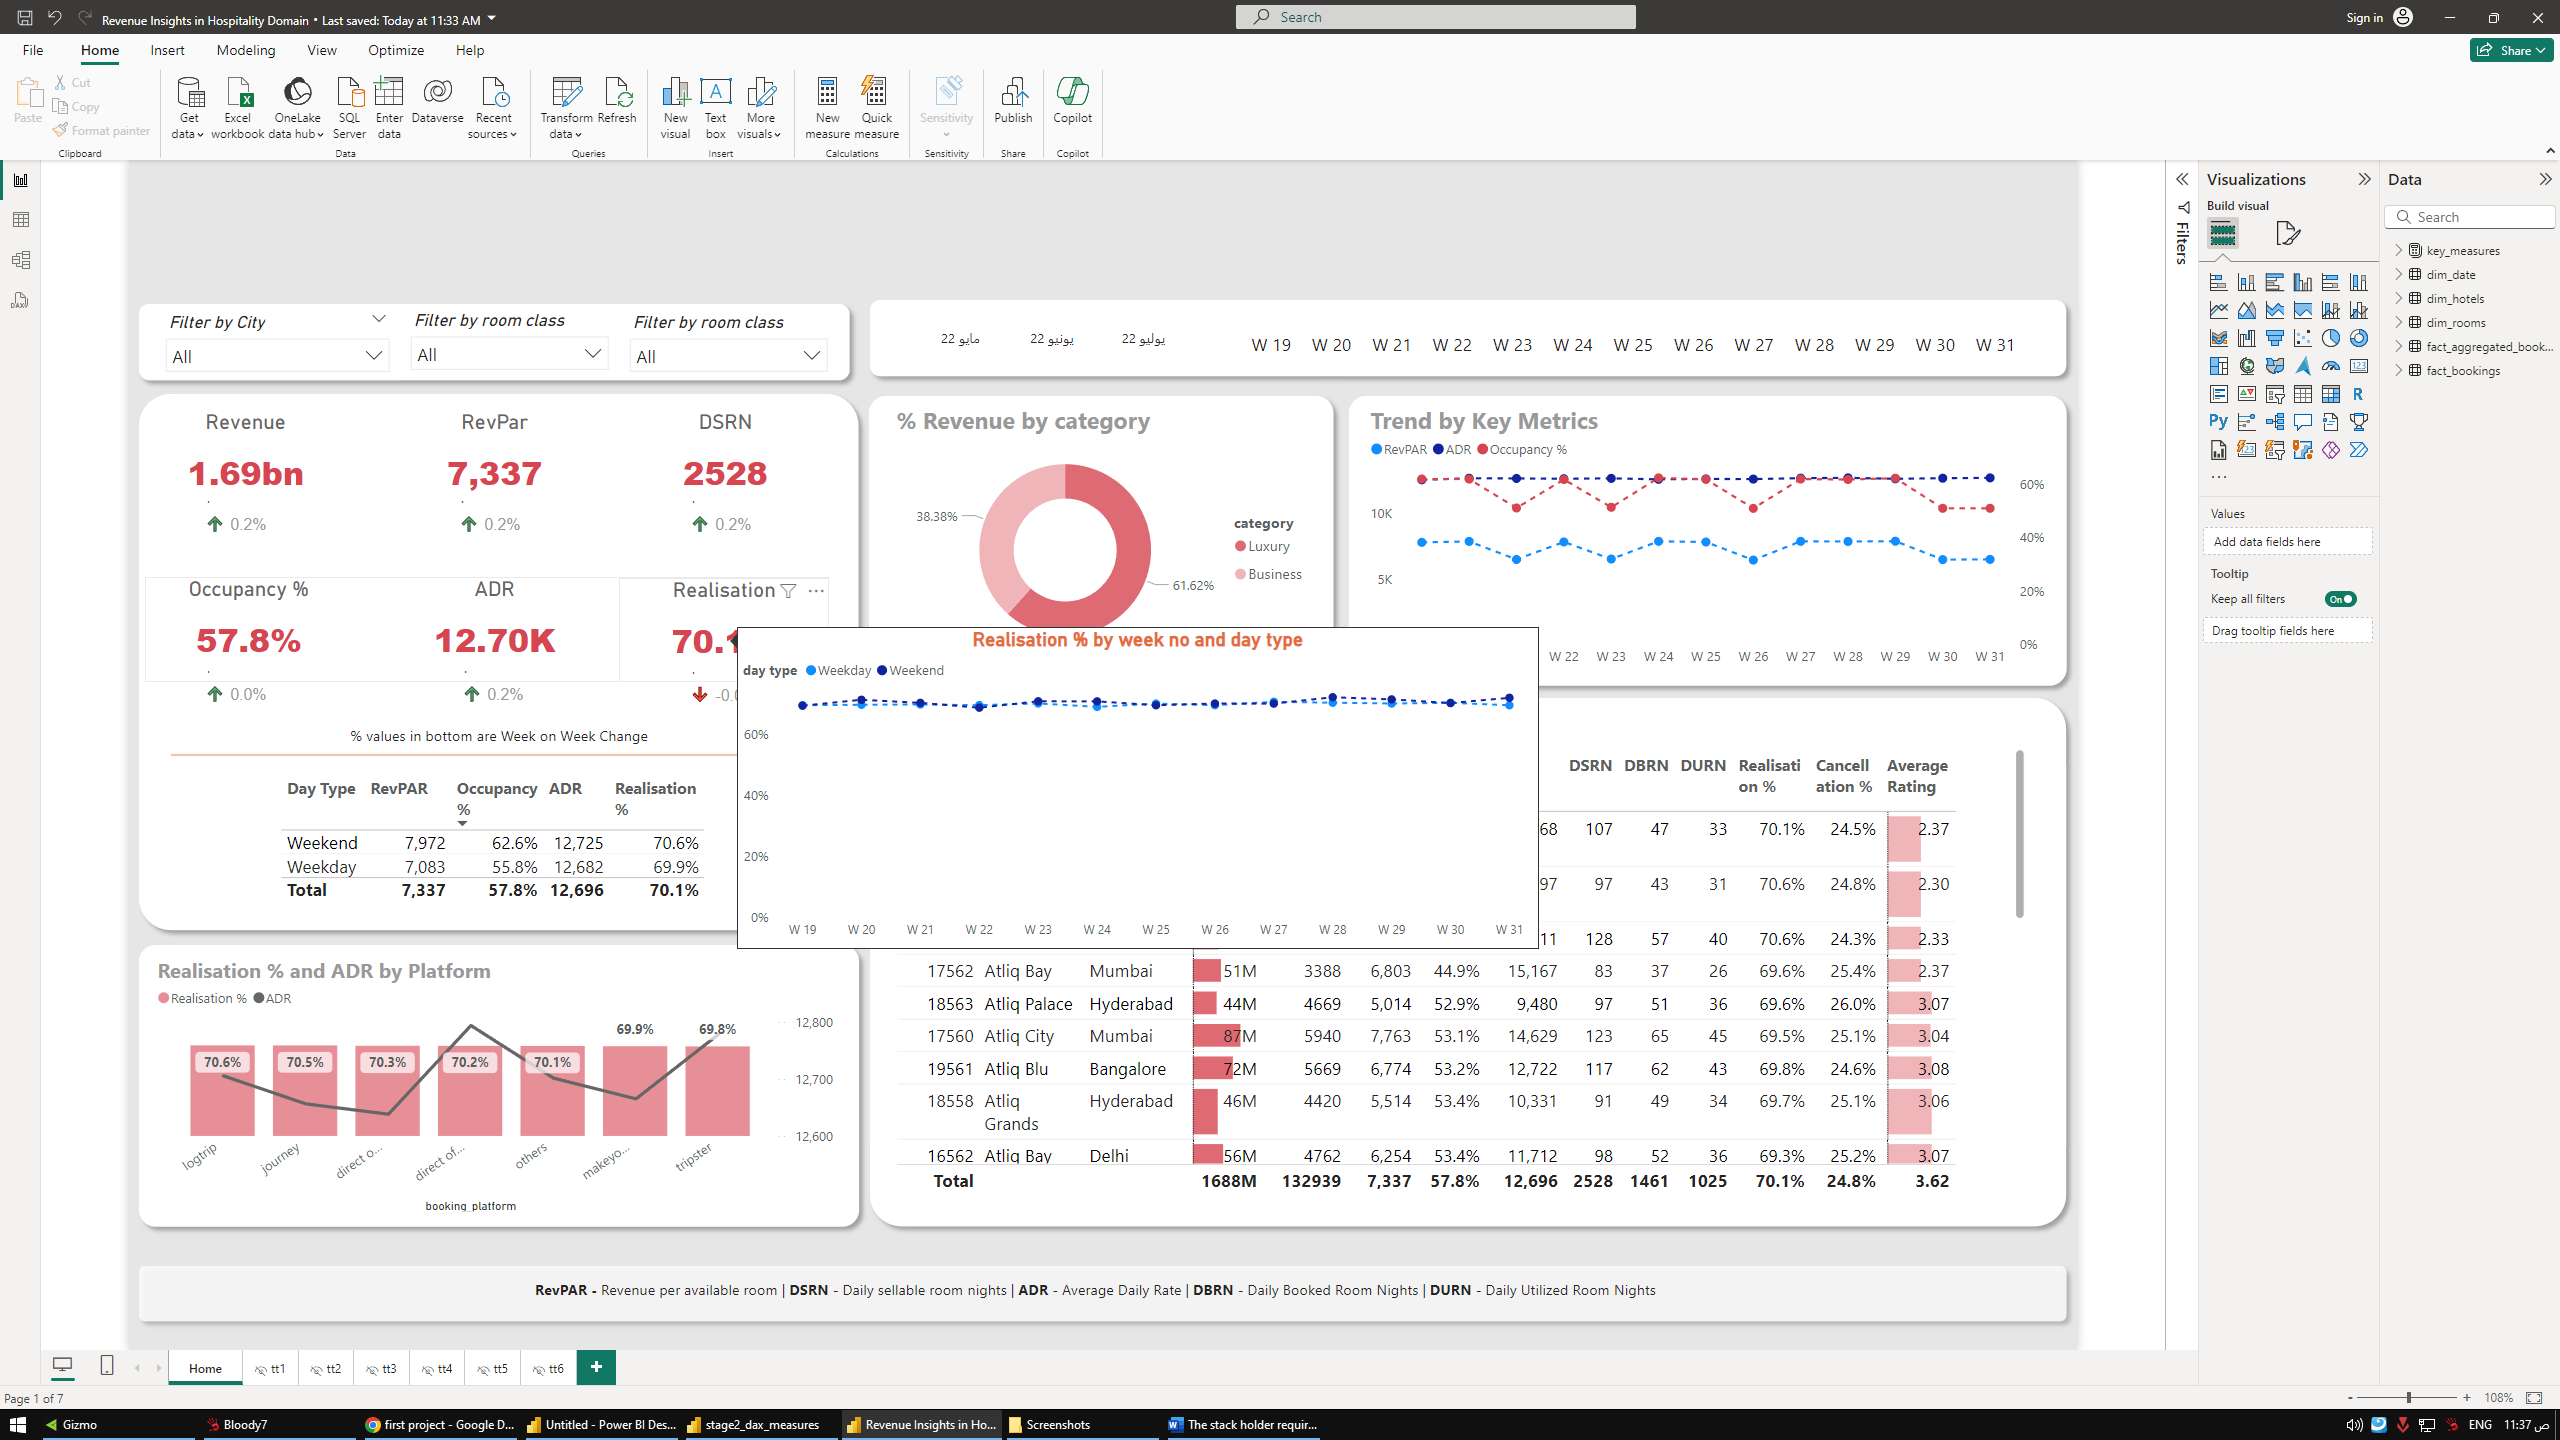

The dashboard page shown, as its layout file describes it:
{"tool":"powerbi","page":{"name":"Page 1","canvas":[1280,720],"ordinal":0},"visuals":[{"type":"tableEx","fields":{"Values":["dim_hotels.property_id","dim_hotels.property_name","key_measures.Revenue","key_measures.Total Bookings","key_measures.RevPAR","key_measures.Occupancy %","key_measures.ADR","key_measures.DSRN","key_measures.DBRN","key_measures.DURN","key_measures.Realisation %","key_measures.Cancellation %"]},"box":[277.8,248.5,987.6,446.6],"z":0},{"type":"advancedSlicerVisual","title":"filter by city ","fields":{"Values":["dim_hotels.city"]},"box":[0,113.9,478.8,62.1],"z":1000},{"type":"advancedSlicerVisual","title":"filter by room type","fields":{"Values":["dim_rooms.room_class"]},"box":[0,51.2,555.5,69.4],"z":2000},{"type":"advancedSlicerVisual","fields":{"Values":["dim_date.mmm yy"]},"box":[552.5,64.6,238.8,56],"z":3000},{"type":"advancedSlicerVisual","fields":{"Values":["dim_date.week no"]},"box":[0,0,1104.8,51],"z":4000},{"type":"card","title":"Revenue","fields":{"Values":["key_measures.Revenue"]},"box":[0,176.5,127.4,87.9],"z":5000},{"type":"tableEx","fields":{"Values":["key_measures.Revenue WoW change %"]},"box":[15.9,248.5,107,59.9],"z":6000},{"type":"donutChart","fields":{"Category":["dim_hotels.category"],"Y":["key_measures.Occupancy %"]},"box":[997.1,52.9,257.4,182.2],"z":6001}]}

Visuals, with their boxes on the page's 1280x720 design canvas (x1, y1, x2, y2). These are canvas units, not pixel positions in the 2560x1440 screenshot, which may show the page scaled, cropped or inside an application window:
tableEx - dim_hotels.property_id x dim_hotels.property_name: pyautogui.locateOnScreen(278, 248, 1265, 695)
"filter by city " advancedSlicerVisual: pyautogui.locateOnScreen(0, 114, 479, 176)
"filter by room type" advancedSlicerVisual: pyautogui.locateOnScreen(0, 51, 556, 121)
advancedSlicerVisual - dim_date.mmm yy: pyautogui.locateOnScreen(552, 65, 791, 121)
advancedSlicerVisual - dim_date.week no: pyautogui.locateOnScreen(0, 0, 1105, 51)
"Revenue" card: pyautogui.locateOnScreen(0, 176, 127, 264)
tableEx - key_measures.Revenue WoW change %: pyautogui.locateOnScreen(16, 248, 123, 308)
donutChart - dim_hotels.category x key_measures.Occupancy %: pyautogui.locateOnScreen(997, 53, 1254, 235)
